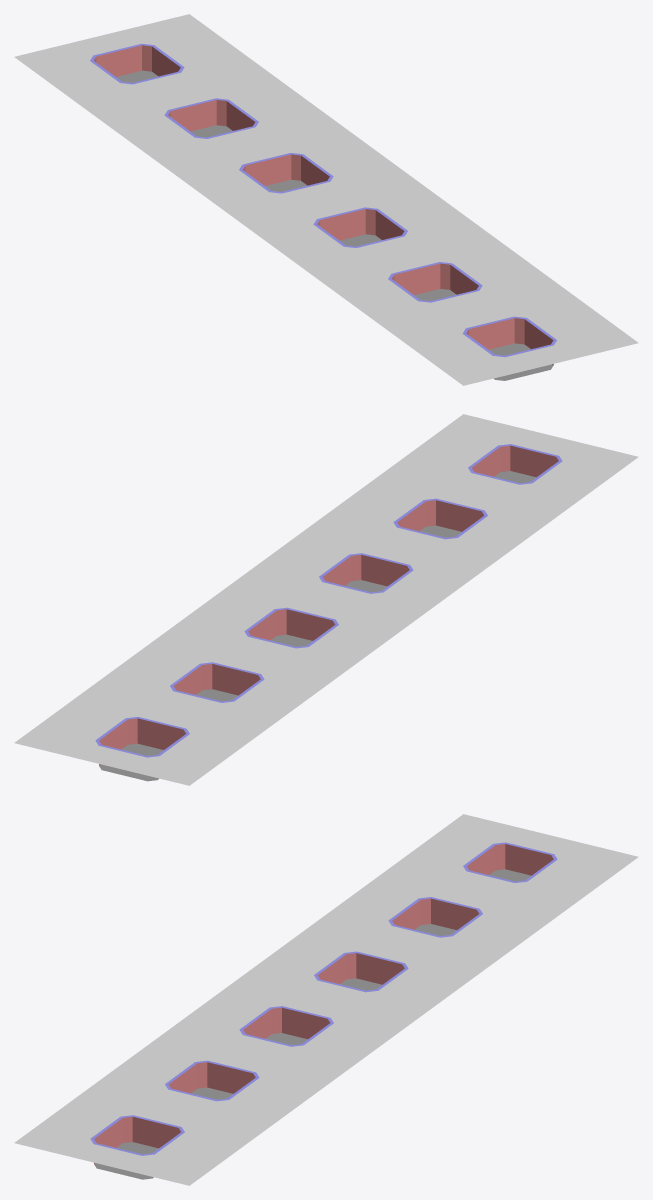
The model's file is SSQ_BRoom02_Btm.gltf.
3 renders of one model, top to bottom at view 1: azimuth 30°, elevation 25°; view 2: azimuth 150°, elevation 25°; view 3: azimuth 330°, elevation 25°, orthographic.
Parts seen in each view (by area): view 1: SSQ_BRoom02_Btm; view 2: SSQ_BRoom02_Btm; view 3: SSQ_BRoom02_Btm.
Boxes of the visible parts, x1,y1,x2,y2 form: SSQ_BRoom02_Btm: [14, 14, 638, 385]; SSQ_BRoom02_Btm: [14, 414, 638, 785]; SSQ_BRoom02_Btm: [14, 814, 638, 1185].
Bounding box in the file's own units: 3.48 × 0.48 × 15.44.
